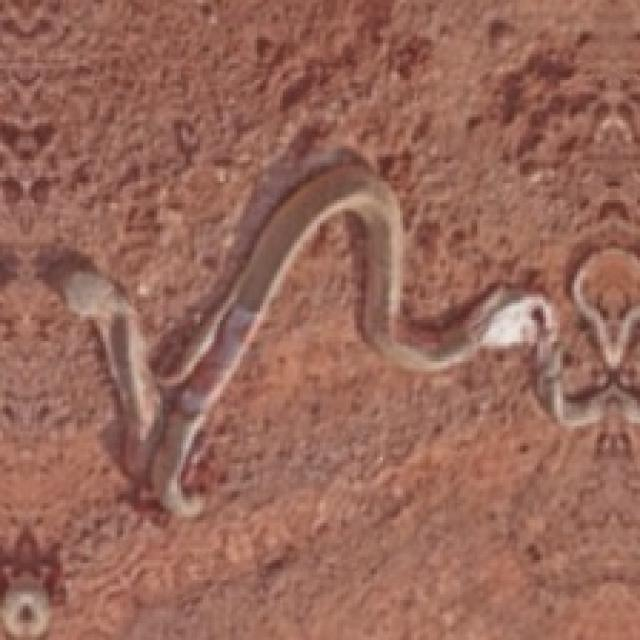king cobra: (37, 129, 554, 514)
